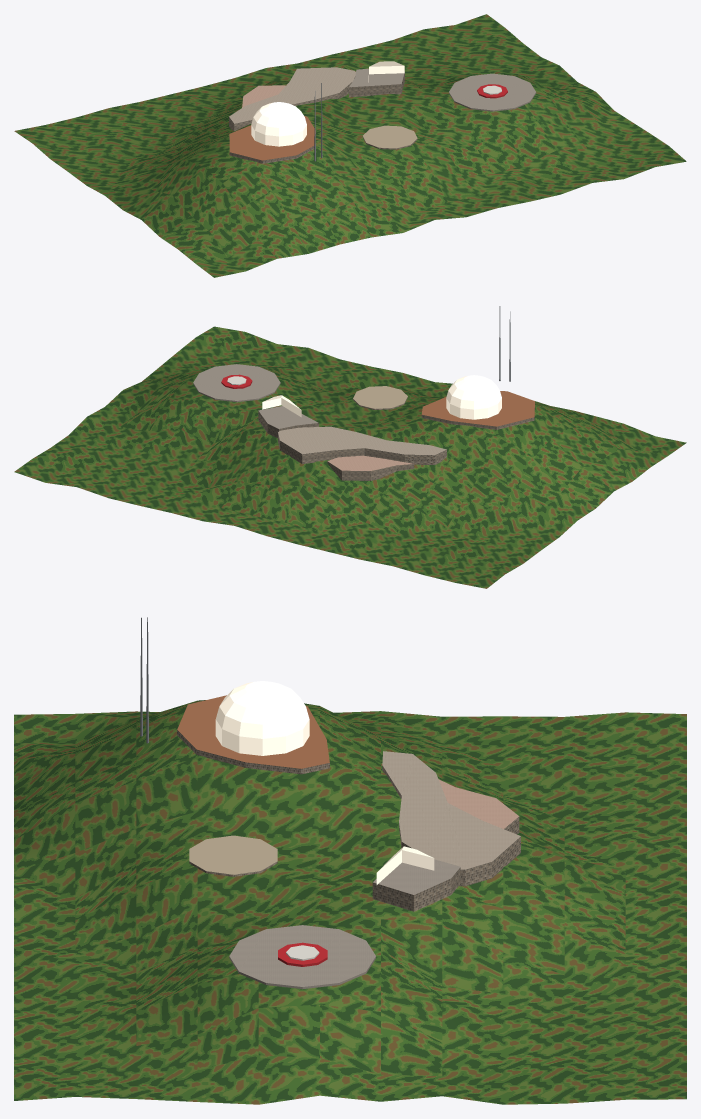
Rendered from daman_e_koh_far.glb.
The picture shows the model from 3 angles, top to bottom: view 1: azimuth 30°, elevation 25°; view 2: azimuth 150°, elevation 25°; view 3: azimuth 270°, elevation 25°; orthographic projection. The views are drawn at different scales.
Parts seen in each view (by area): view 1: m_dk_hillside, m_dk_paver, m_dk_upper, m_dk_white, m_dk_brick, m_dk_stone, m_dk_circle, m_dk_lower; view 2: m_dk_hillside, m_dk_stone, m_dk_paver, m_dk_upper, m_dk_white, m_dk_brick, m_dk_circle, m_dk_lower; view 3: m_dk_hillside, m_dk_paver, m_dk_upper, m_dk_white, m_dk_stone, m_dk_brick, m_dk_circle, m_dk_lower.
Part boxes in pixels (x1,y1,x2,y2): m_dk_hillside: (14,14,686,277); m_dk_paver: (349,68,536,111); m_dk_upper: (229,67,355,123); m_dk_white: (251,61,404,146); m_dk_brick: (229,116,315,160); m_dk_stone: (229,72,417,163); m_dk_circle: (363,125,417,148); m_dk_lower: (242,85,285,107); m_dk_hillside: (14,326,686,588); m_dk_stone: (258,397,534,480); m_dk_paver: (193,364,318,428); m_dk_upper: (278,426,446,455); m_dk_white: (262,375,501,419); m_dk_brick: (421,391,534,426); m_dk_circle: (353,386,407,408); m_dk_lower: (327,455,413,470); m_dk_hillside: (14,700,686,1104); m_dk_paver: (229,859,460,989); m_dk_upper: (382,751,520,869); m_dk_white: (215,681,434,884); m_dk_stone: (177,730,520,911); m_dk_brick: (177,695,329,768); m_dk_circle: (189,835,277,874); m_dk_lower: (438,779,519,828).
Bounding box in the file's own units: 225 × 59.6 × 165.
Materials: 11 (5 with a texture image).
